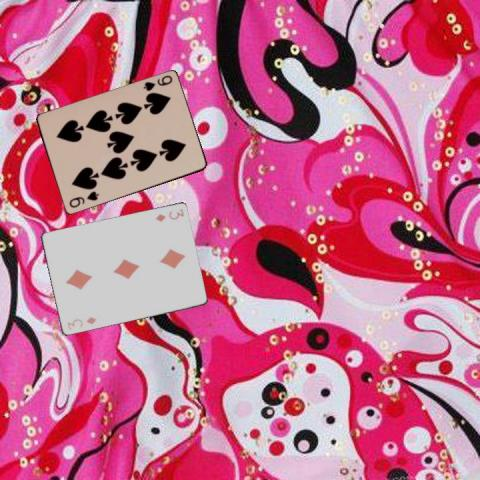3d: (64, 314, 97, 331), (153, 206, 185, 223)
9s: (66, 189, 101, 209), (140, 72, 173, 92)
